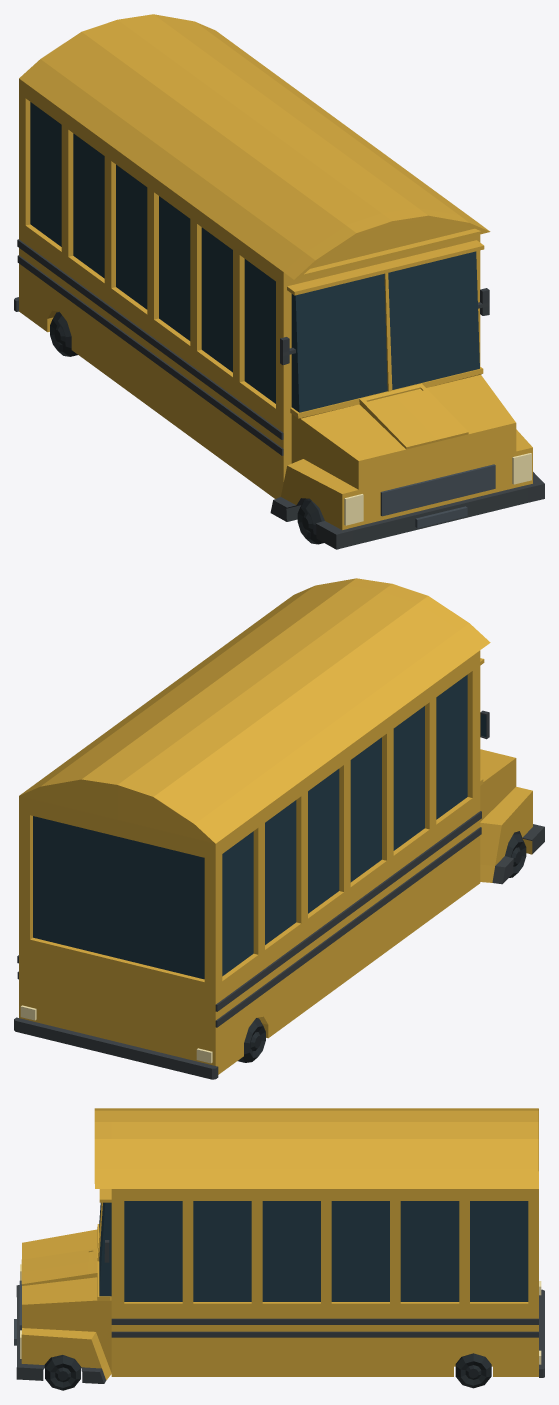
Rendered from SchoolBus.glb.
The picture shows the model from 3 angles, top to bottom: view 1: azimuth 30°, elevation 25°; view 2: azimuth 150°, elevation 25°; view 3: azimuth 270°, elevation 25°; orthographic projection. The views are drawn at different scales.
Visible parts, largest first — view 1: SchoolBus, FrontWheels, BackWheels; view 2: SchoolBus, BackWheels; view 3: SchoolBus, FrontWheels, BackWheels.
Boxes of the visible parts, left/top/right/bottom form: SchoolBus: left=14, top=14, right=544, bottom=549; FrontWheels: left=297, top=498, right=324, bottom=544; BackWheels: left=50, top=311, right=77, bottom=356; SchoolBus: left=14, top=578, right=544, bottom=1079; BackWheels: left=238, top=1018, right=265, bottom=1062; SchoolBus: left=14, top=1108, right=544, bottom=1383; FrontWheels: left=45, top=1355, right=80, bottom=1390; BackWheels: left=455, top=1353, right=491, bottom=1388.
Size of the model in its own units: 2.6 by 3.03 by 6.38.
